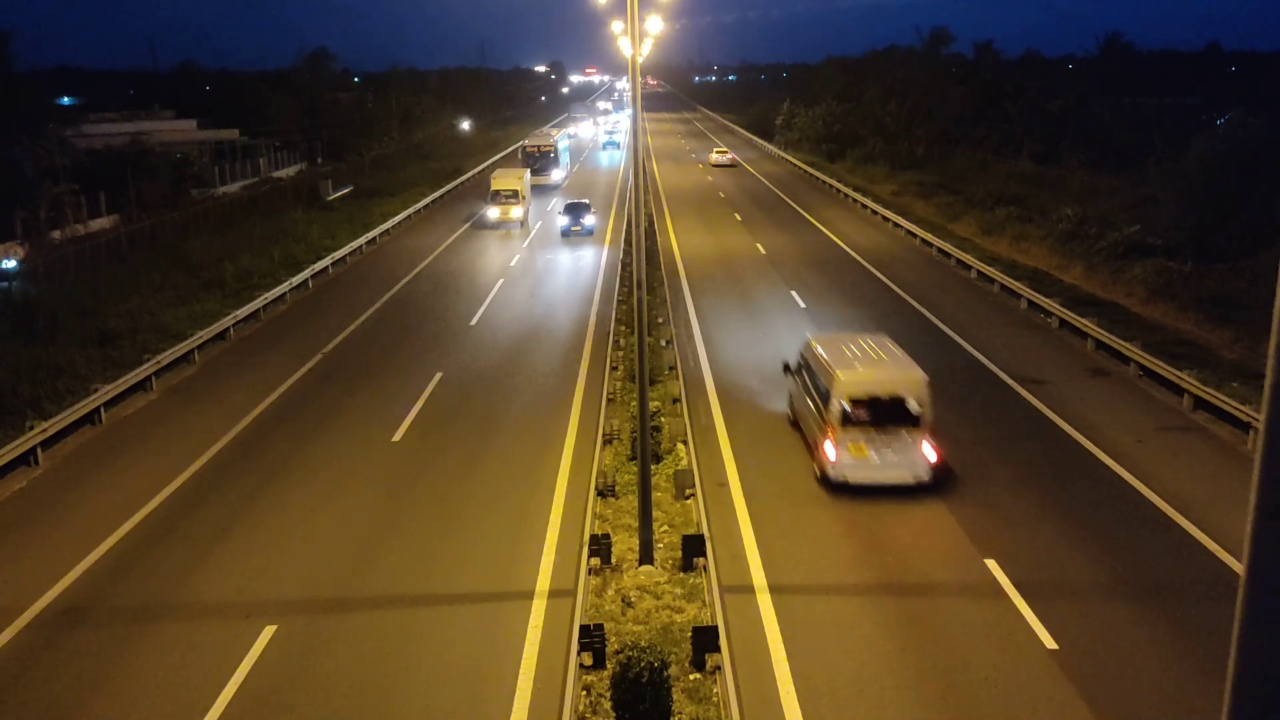car: (784, 319, 944, 497), (557, 198, 599, 239), (709, 147, 739, 167)
truck: (485, 166, 531, 227)
